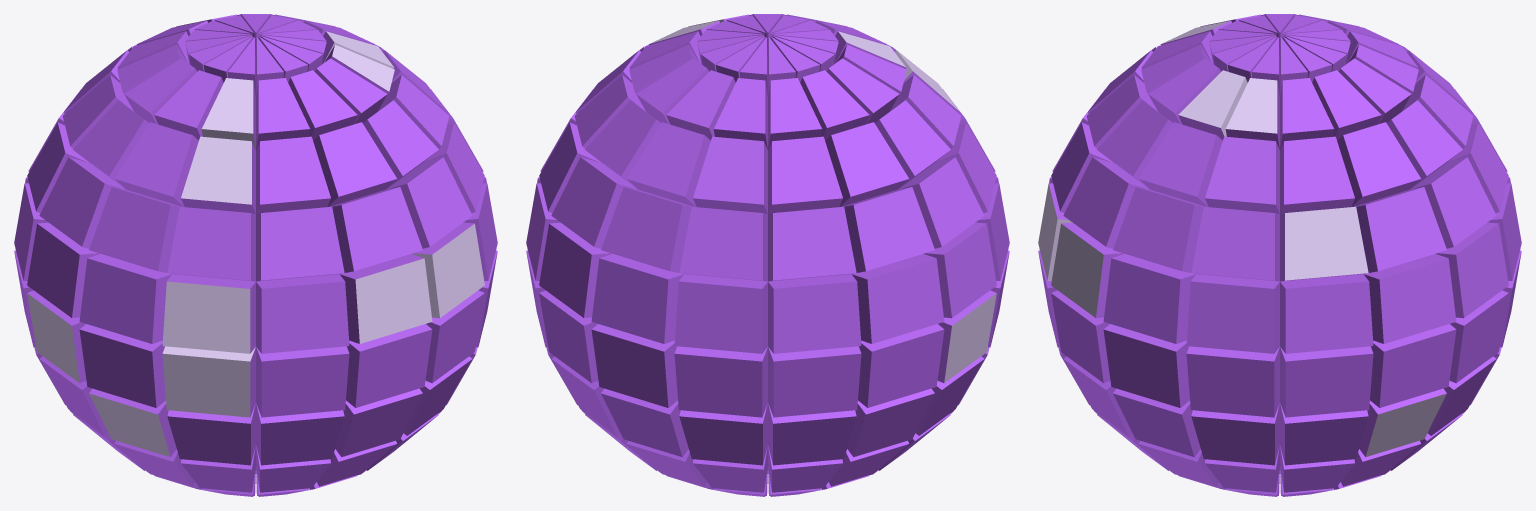
The model's file is Disco_Ball_3.fbx.
The picture shows the model from 3 angles, left to right: view 1: azimuth 30°, elevation 25°; view 2: azimuth 150°, elevation 25°; view 3: azimuth 270°, elevation 25°; orthographic projection.
Visible parts, largest first — view 1: pSphere1; view 2: pSphere1; view 3: pSphere1.
Boxes of the visible parts, x1,y1,x2,y2 form: pSphere1: (14,14,497,496); pSphere1: (526,14,1009,496); pSphere1: (1038,14,1521,496).
Size of the model in its own units: 4.37 by 4.42 by 4.39.
